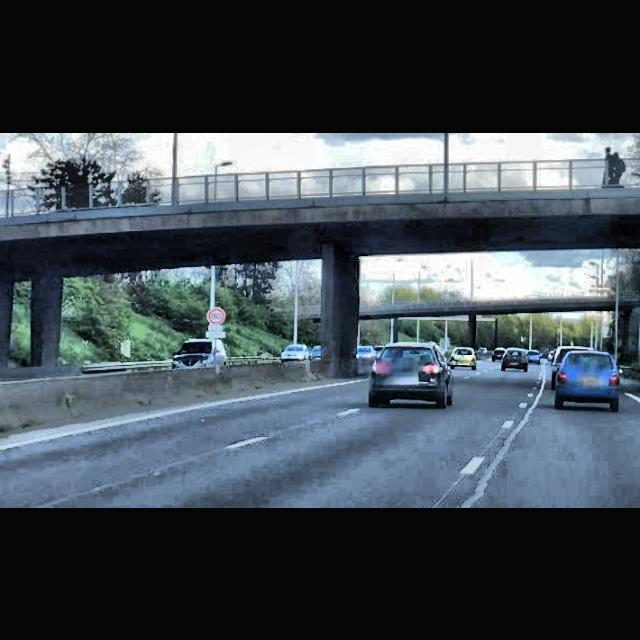speed_80: (208, 308, 224, 324)
